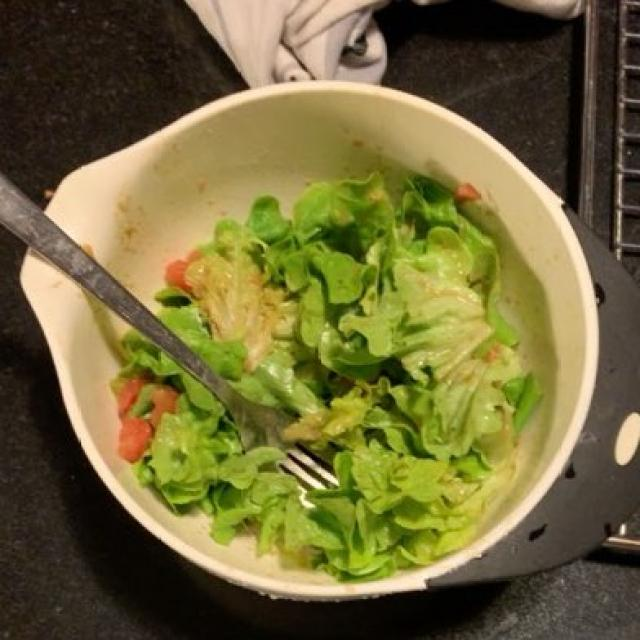salad-leaf-salad-green: (120, 166, 535, 572)
tomato-raw: (114, 246, 198, 457)
